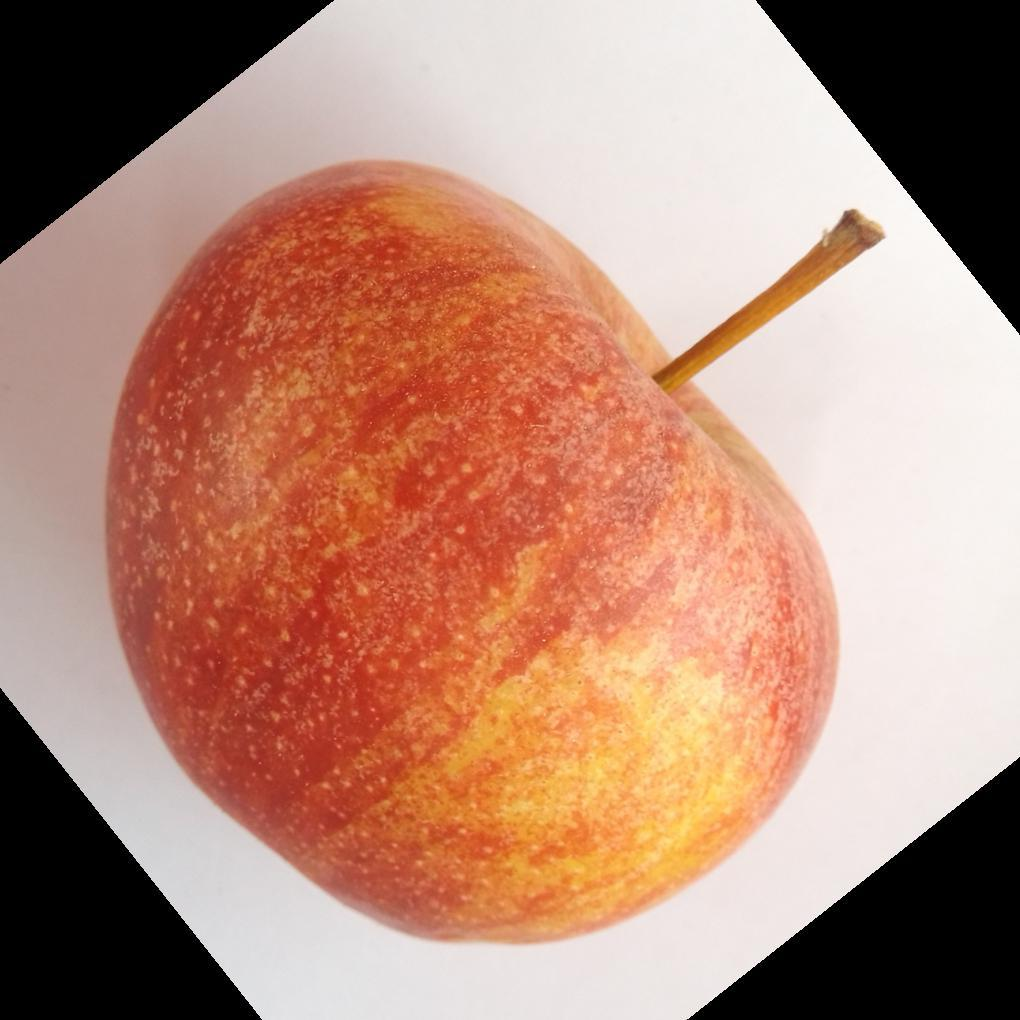FreshGuava: (101, 160, 843, 950)
